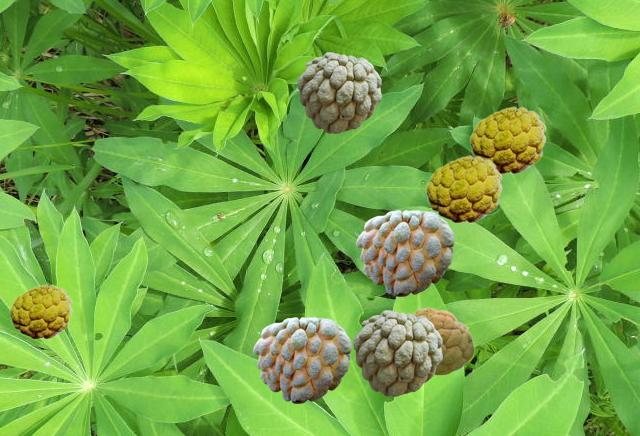atis: (356, 210, 453, 295), (253, 317, 350, 402), (353, 310, 441, 395), (297, 52, 380, 132), (469, 106, 545, 173), (425, 155, 501, 222), (412, 307, 473, 374), (9, 284, 71, 338)
